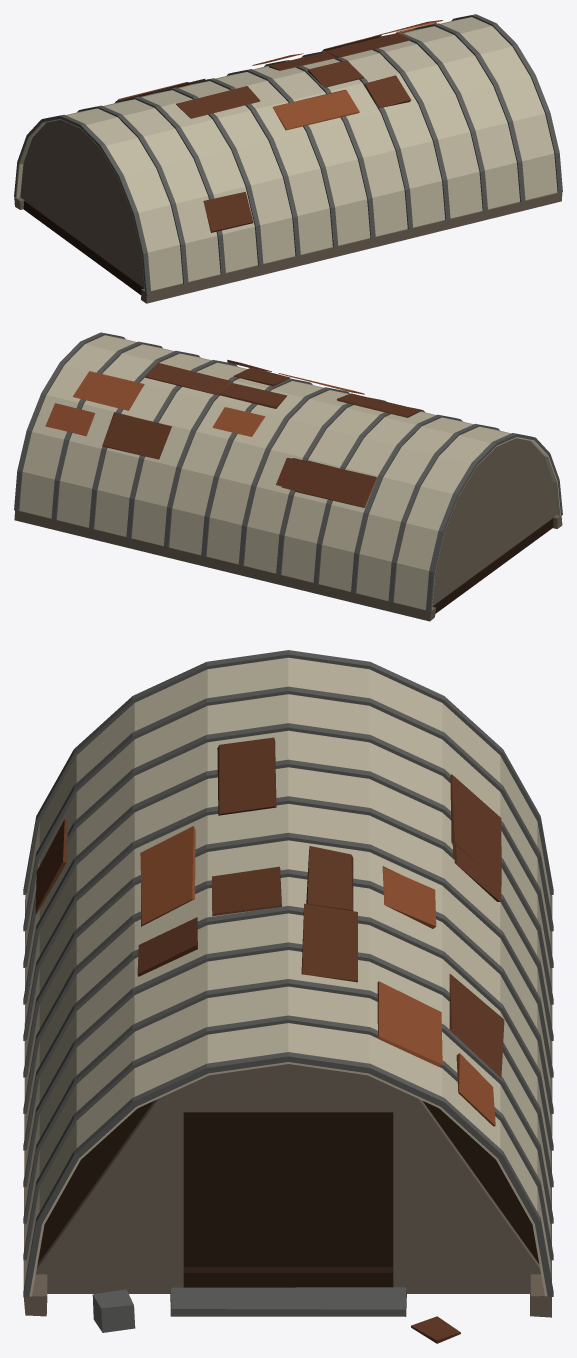
The model's file is quonset.glb.
The picture shows the model from 3 angles, top to bottom: view 1: azimuth 30°, elevation 25°; view 2: azimuth 150°, elevation 25°; view 3: azimuth 270°, elevation 25°; orthographic projection. The views are drawn at different scales.
Parts seen in each view (by area): view 1: quonset; view 2: quonset; view 3: quonset.
Boxes of the visible parts, x1=… form: quonset: x1=14, y1=14, x2=562, y2=303; quonset: x1=14, y1=332, x2=562, y2=621; quonset: x1=23, y1=650, x2=553, y2=1343.
Size of the model in its own units: 23.43 by 6.74 by 12.16.
